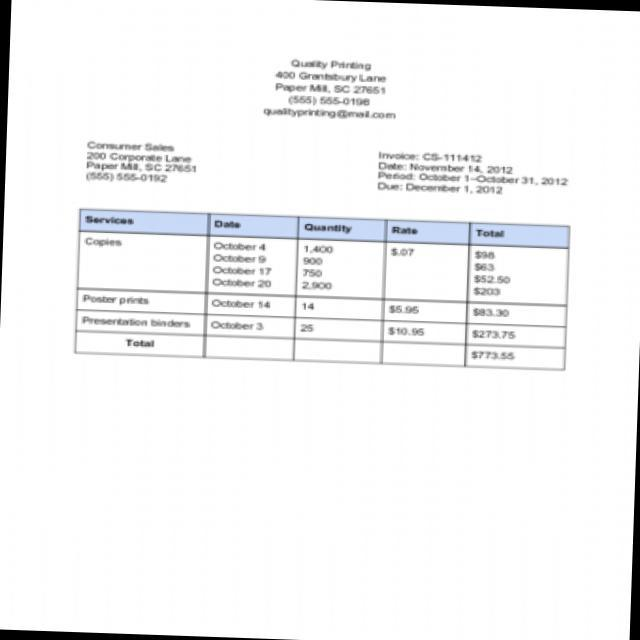due_date: (404, 182, 509, 196)
invoice_date: (410, 162, 512, 174)
invoice_number: (422, 150, 487, 164)
invoice_total: (468, 348, 529, 362)
item_description: (77, 235, 200, 329)
item_quantity: (297, 240, 340, 334)
item_total_price: (470, 249, 523, 342)
item_unit_price: (386, 245, 446, 339)
supplier_address: (272, 70, 394, 96)
supplier_name: (290, 57, 374, 75)
